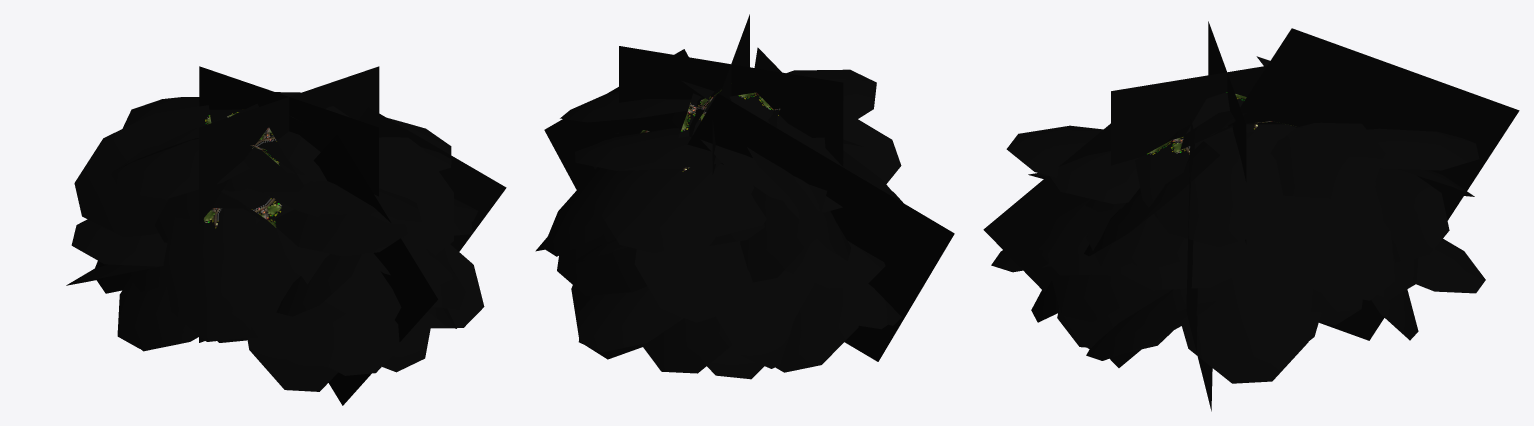
The model's file is defaultsmallbush.glb.
The picture shows the model from 3 angles, left to right: view 1: azimuth 30°, elevation 25°; view 2: azimuth 150°, elevation 25°; view 3: azimuth 270°, elevation 25°; orthographic projection. The views are drawn at different scales.
Parts seen in each view (by area): view 1: DefaultSmallBush; view 2: DefaultSmallBush; view 3: DefaultSmallBush.
Part boxes in pixels (bbox=[...]): DefaultSmallBush: bbox=[66, 66, 506, 405]; DefaultSmallBush: bbox=[535, 14, 954, 379]; DefaultSmallBush: bbox=[983, 21, 1519, 411].
Size of the model in its own units: 2.5 by 1.77 by 2.43.
1 material, 1 textured.
